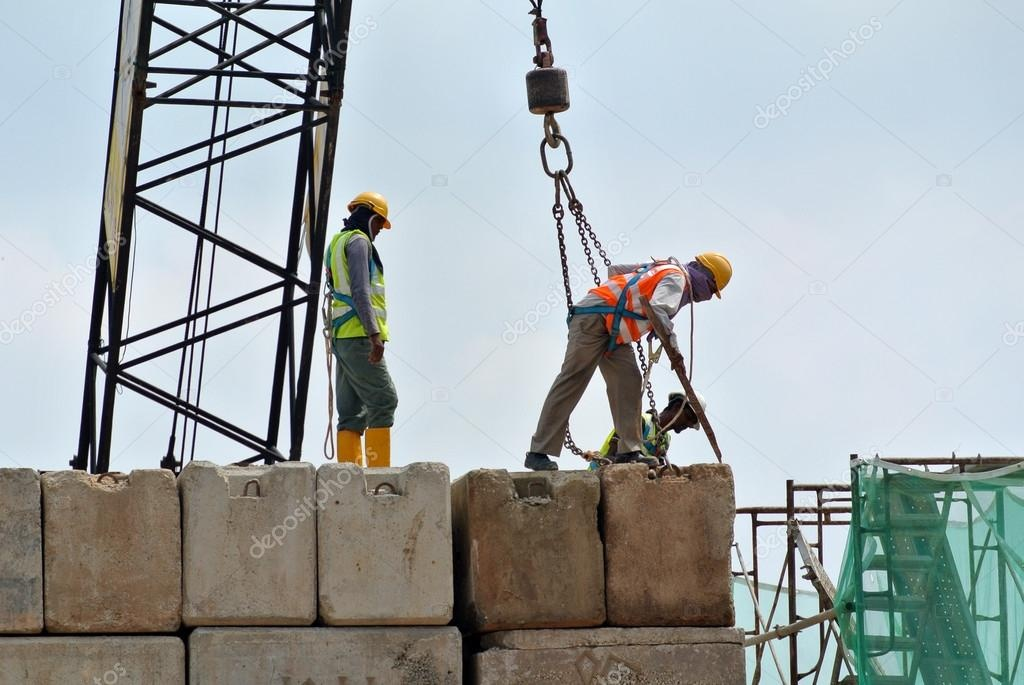yellow: (690, 252, 733, 303), (346, 190, 390, 236)
